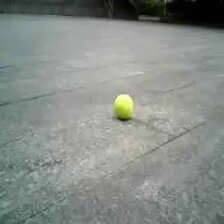tennis: (115, 94, 133, 118)
